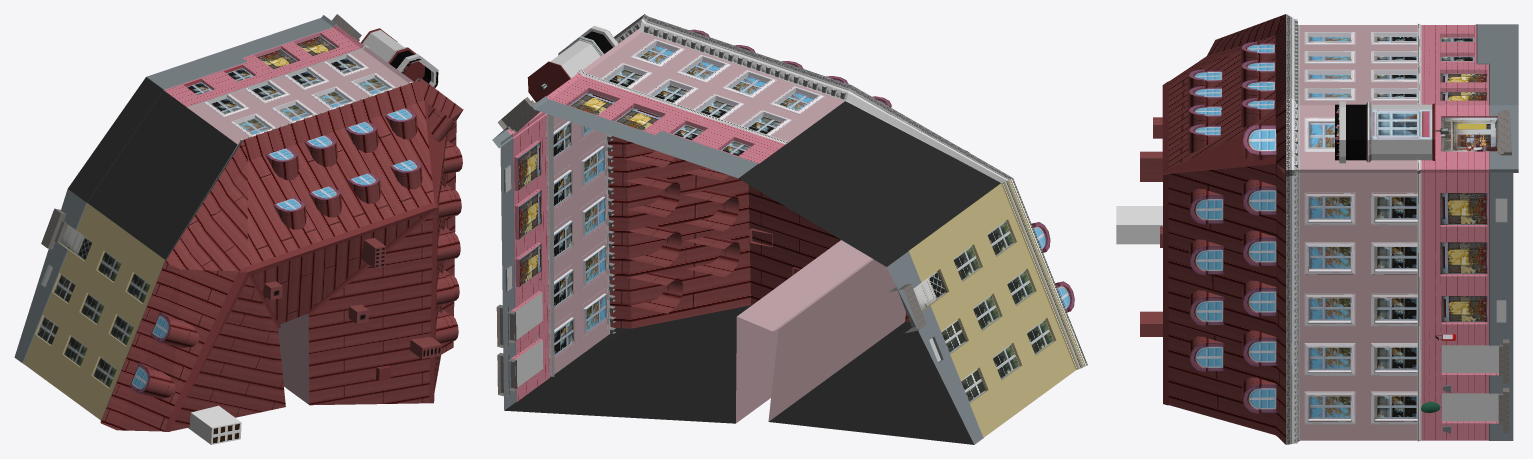
The model's file is Rataskaevu 2.obj.
3 views of the same model, side by side, from view 1: azimuth 30°, elevation 25°; view 2: azimuth 150°, elevation 25°; view 3: azimuth 270°, elevation 25° (orthographic). The views are drawn at different scales.
Visible parts, largest first — view 1: Rataskaevu_2; view 2: Rataskaevu_2; view 3: Rataskaevu_2.
Boxes of the visible parts, left/top/right/bottom form: Rataskaevu_2: left=14, top=14, right=463, bottom=444; Rataskaevu_2: left=492, top=14, right=1087, bottom=444; Rataskaevu_2: left=1116, top=14, right=1518, bottom=444.
Bounding box in the file's own units: 27.23 × 18.47 × 20.27.
